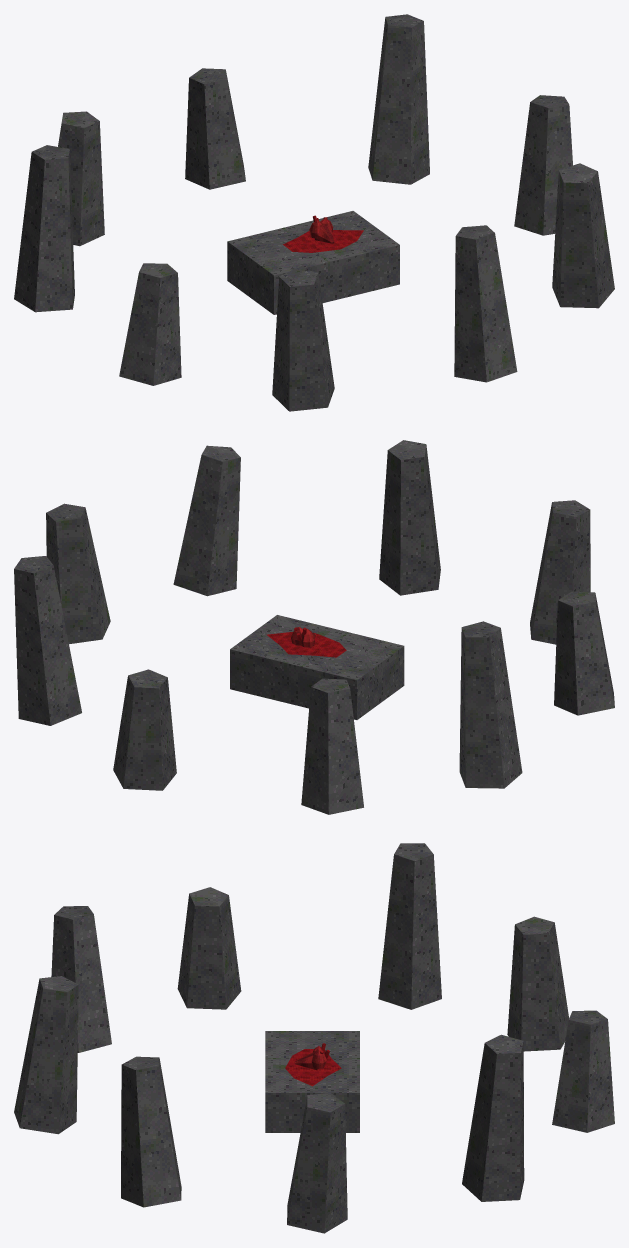
File: circulo_piedras.obj
3 renders of one model, top to bottom at view 1: azimuth 30°, elevation 25°; view 2: azimuth 150°, elevation 25°; view 3: azimuth 270°, elevation 25°, orthographic.
Parts seen in each view (by area): view 1: circulo_piedras; view 2: circulo_piedras; view 3: circulo_piedras.
Part boxes in pixels (x1=…): circulo_piedras: x1=14, y1=14, x2=614, y2=411; circulo_piedras: x1=14, y1=440, x2=614, y2=814; circulo_piedras: x1=14, y1=843, x2=614, y2=1233.
Bounding box in the file's own units: 5.62 × 1.61 × 5.73.
3 materials, 3 textured.
